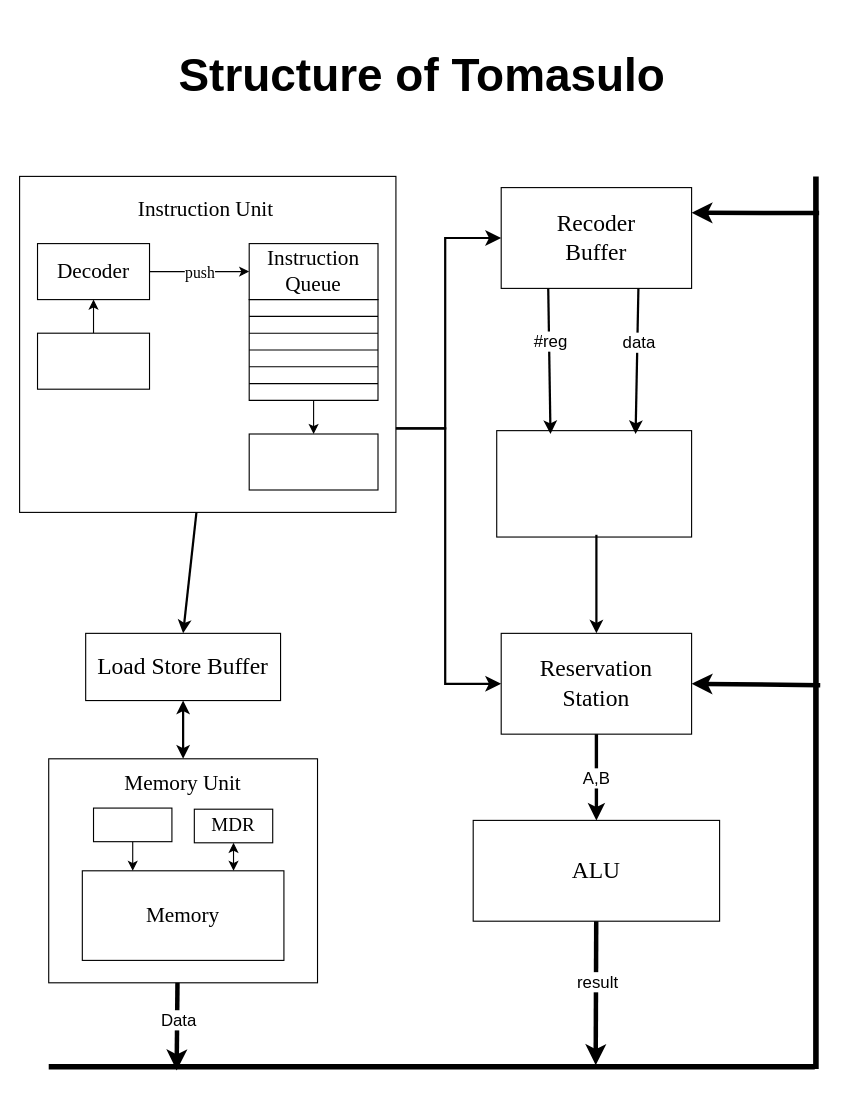
This 851x1101 diagram has some shape labels left out. Each missing label, with the centre of its shape:
"Fetcher" belongs at pixel 93 360.
"Issuer" belongs at pixel 313 461.
"MAR" belongs at pixel 132 824.
"Register File" belongs at pixel 594 483.
